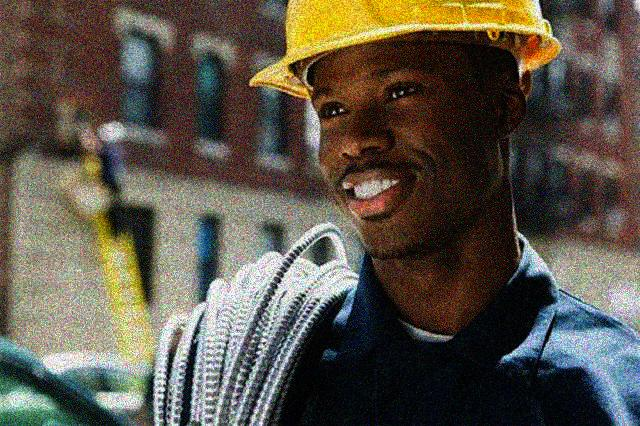helmet: (246, 1, 566, 257)
